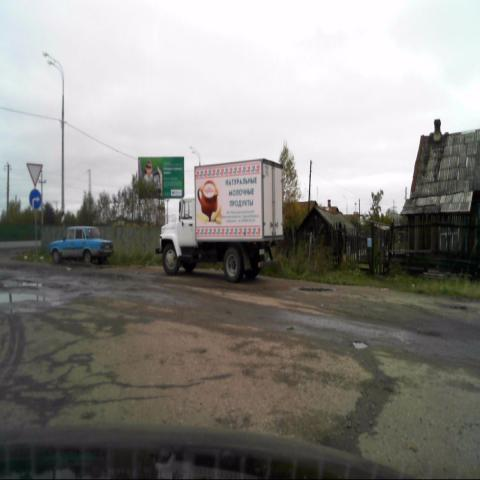4_1_2: (29, 190, 41, 211)
